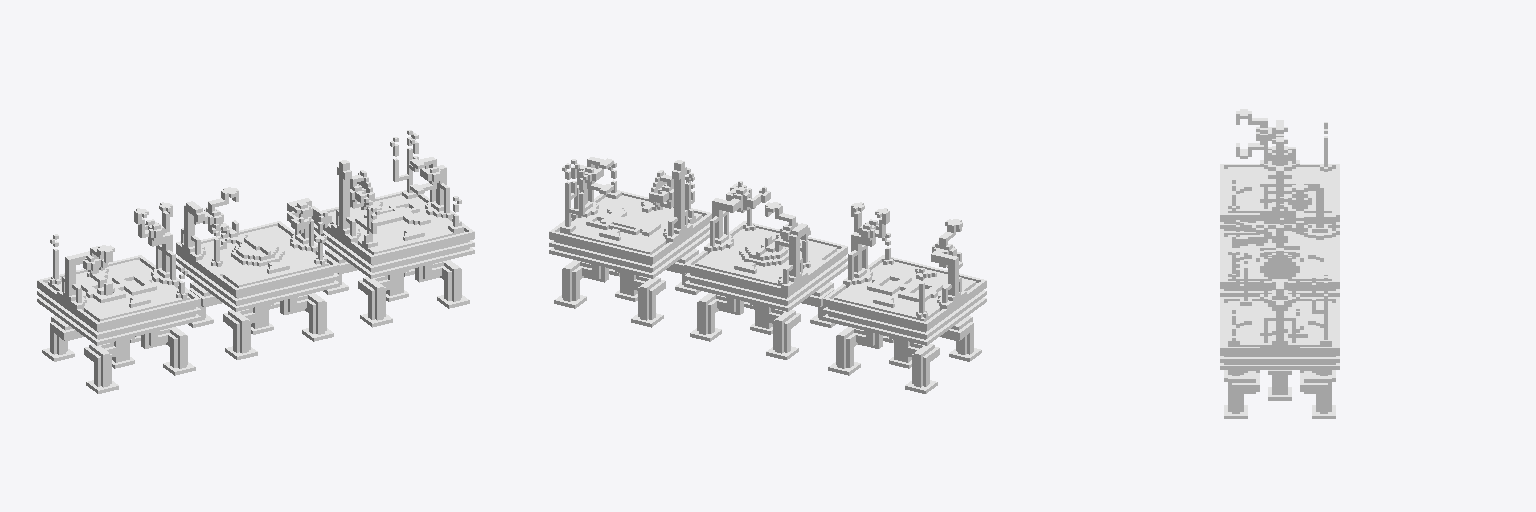
File: Mesas_Ensamblaje.obj
The picture shows the model from 3 angles: view 1: azimuth 30°, elevation 25°; view 2: azimuth 150°, elevation 25°; view 3: azimuth 270°, elevation 25°; orthographic projection.
Parts seen in each view (by area): view 1: object 1; view 2: object 1; view 3: object 1.
Part boxes in pixels (x1,y1,x2,y2): object 1: (37, 130, 474, 393); object 1: (549, 157, 986, 393); object 1: (1220, 109, 1339, 418).
Size of the model in its own units: 10.9 by 4 by 3.